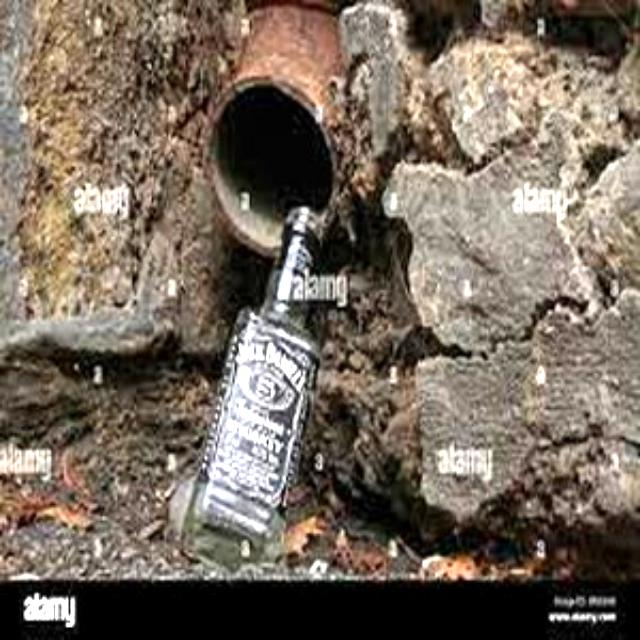Glass: (178, 207, 329, 559)
